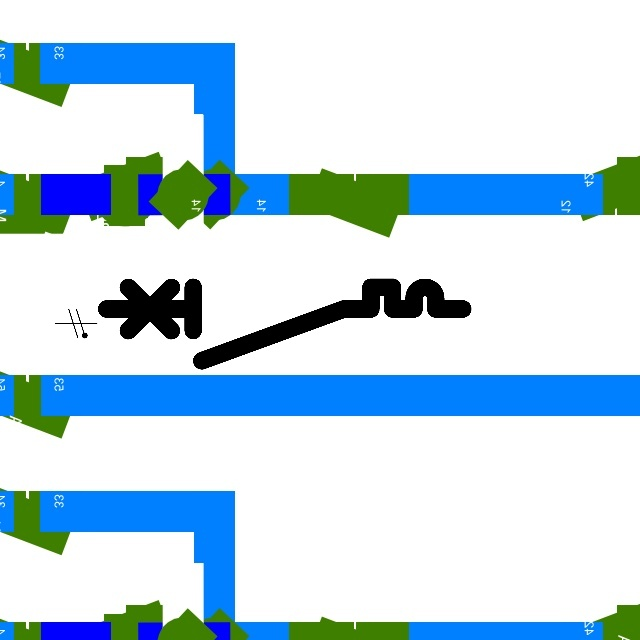interruptor_termomagnetico: (97, 278, 472, 370)
